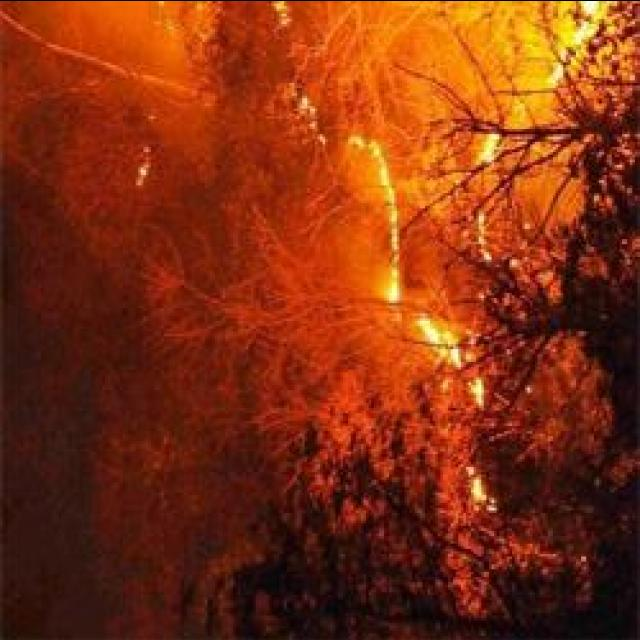fire: (532, 0, 614, 92), (420, 318, 486, 400), (461, 454, 508, 513), (475, 130, 509, 184), (376, 216, 414, 262), (268, 1, 308, 36), (381, 274, 417, 310), (352, 130, 388, 156), (378, 170, 406, 194)
smoke: (75, 182, 316, 418), (115, 478, 306, 626), (348, 6, 480, 115), (154, 56, 272, 141)
